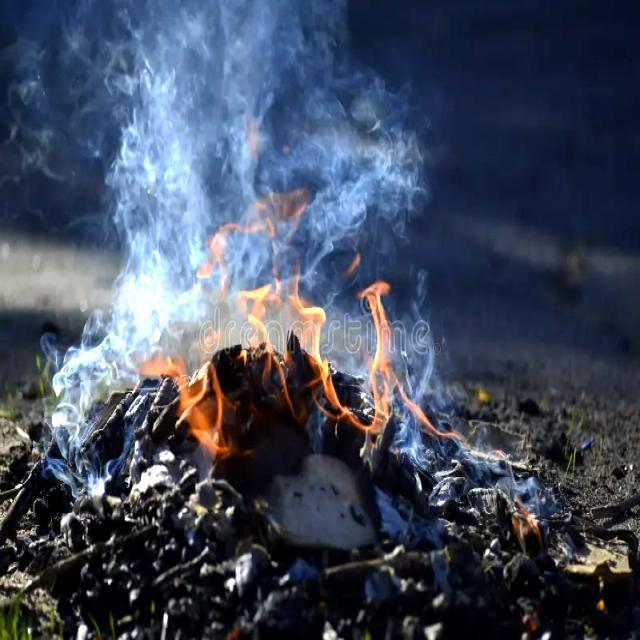Fire: (128, 231, 470, 484)
Smoke: (67, 0, 445, 303)
